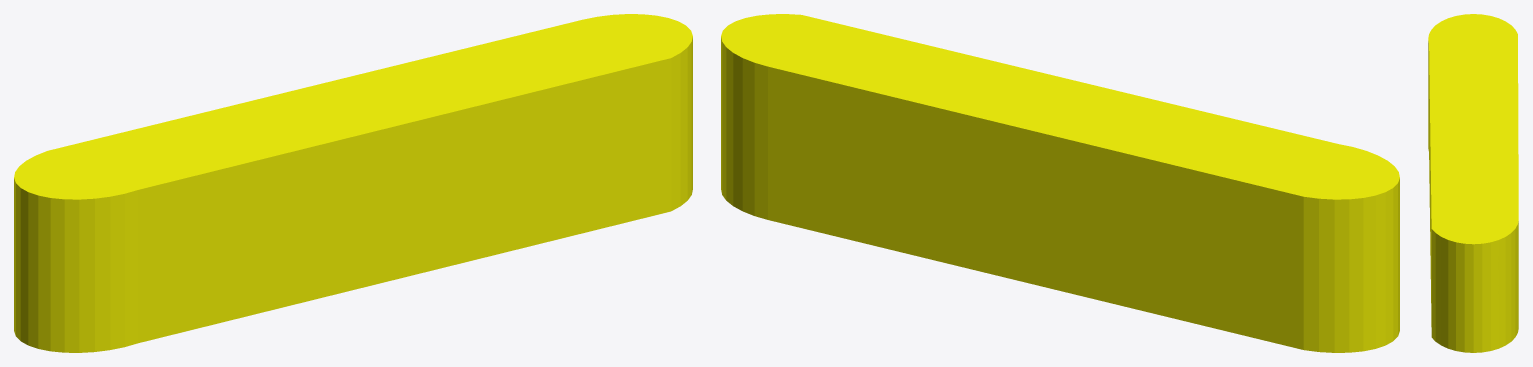
The model's file is paddle.obj.
The picture shows the model from 3 angles, left to right: view 1: azimuth 30°, elevation 25°; view 2: azimuth 150°, elevation 25°; view 3: azimuth 270°, elevation 25°; orthographic projection. The views are drawn at different scales.
Parts seen in each view (by area): view 1: Cylinder; view 2: Cylinder; view 3: Cylinder.
Boxes of the visible parts, x1=… form: Cylinder: x1=14, y1=14, x2=692, y2=352; Cylinder: x1=721, y1=14, x2=1399, y2=352; Cylinder: x1=1428, y1=14, x2=1518, y2=352.
Bounding box in the file's own units: 0.83 × 0.1828 × 0.138.
